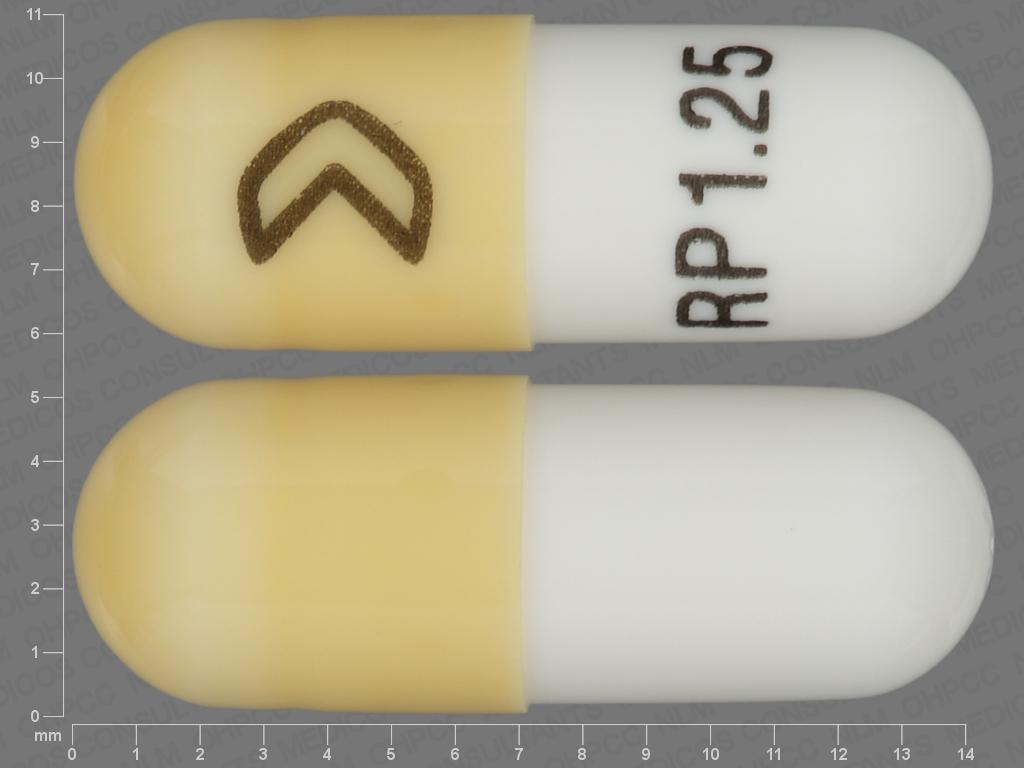Pill: (69, 8, 1004, 361), (70, 370, 1005, 720)
